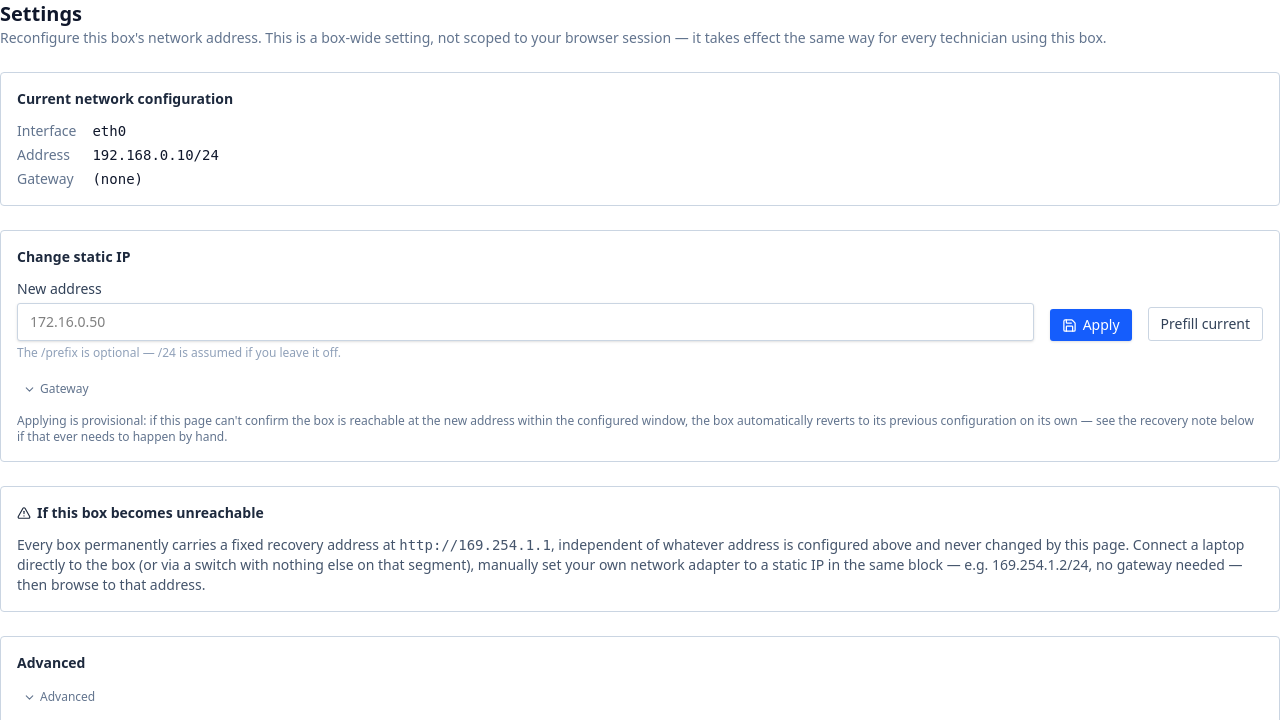
Test: SettingsView advanced section › surfaces the API error message when clearing fails
The width and height of the screenshot is (1280, 720).
Click the button "Advanced": point(59, 697) [17,685,101,709]
(page scrolled)
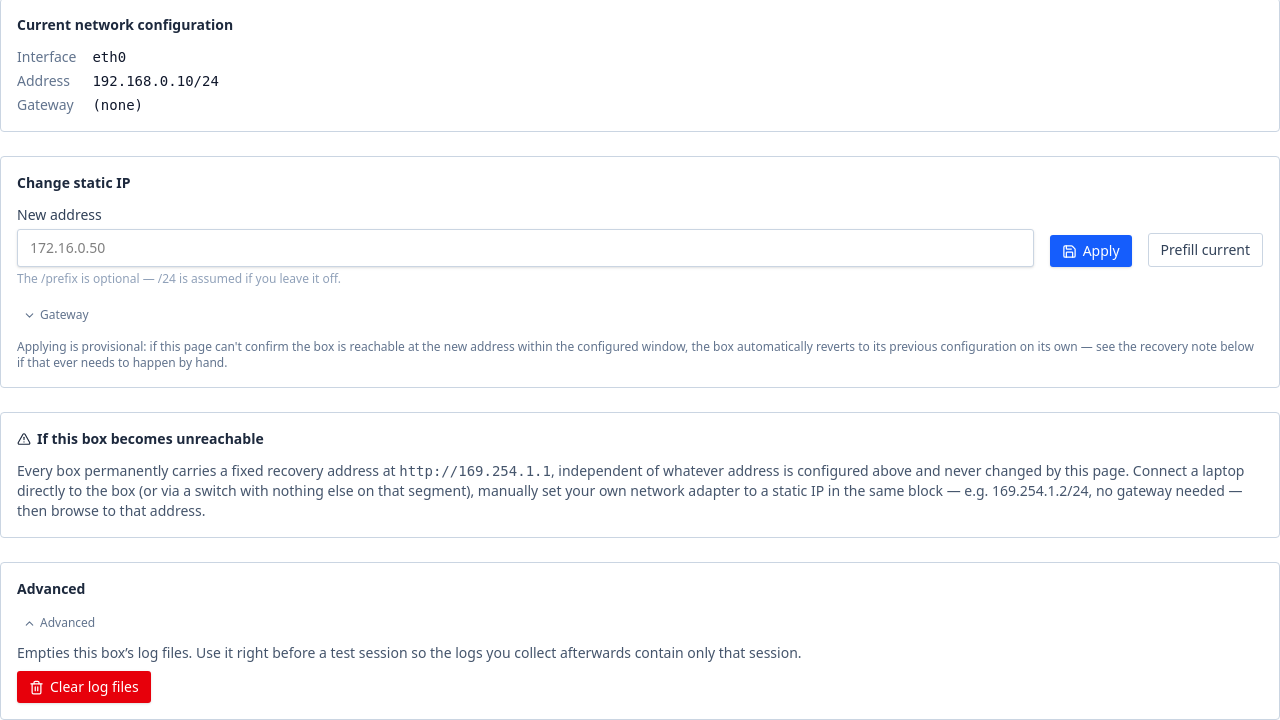
Result: the button "Clear log files" is shown
Click the button "Clear log files": point(84, 687) [17,671,151,703]
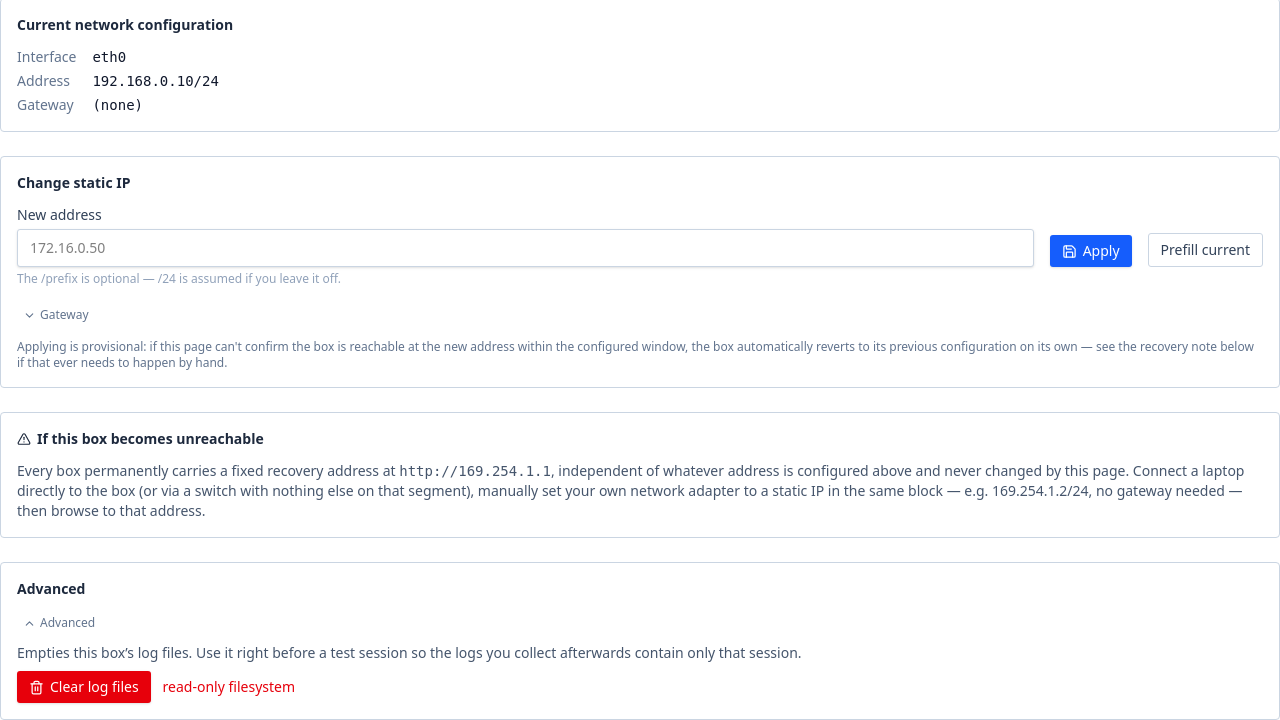
Result: the text "read-only filesystem" is shown at [163,677,295,697]
